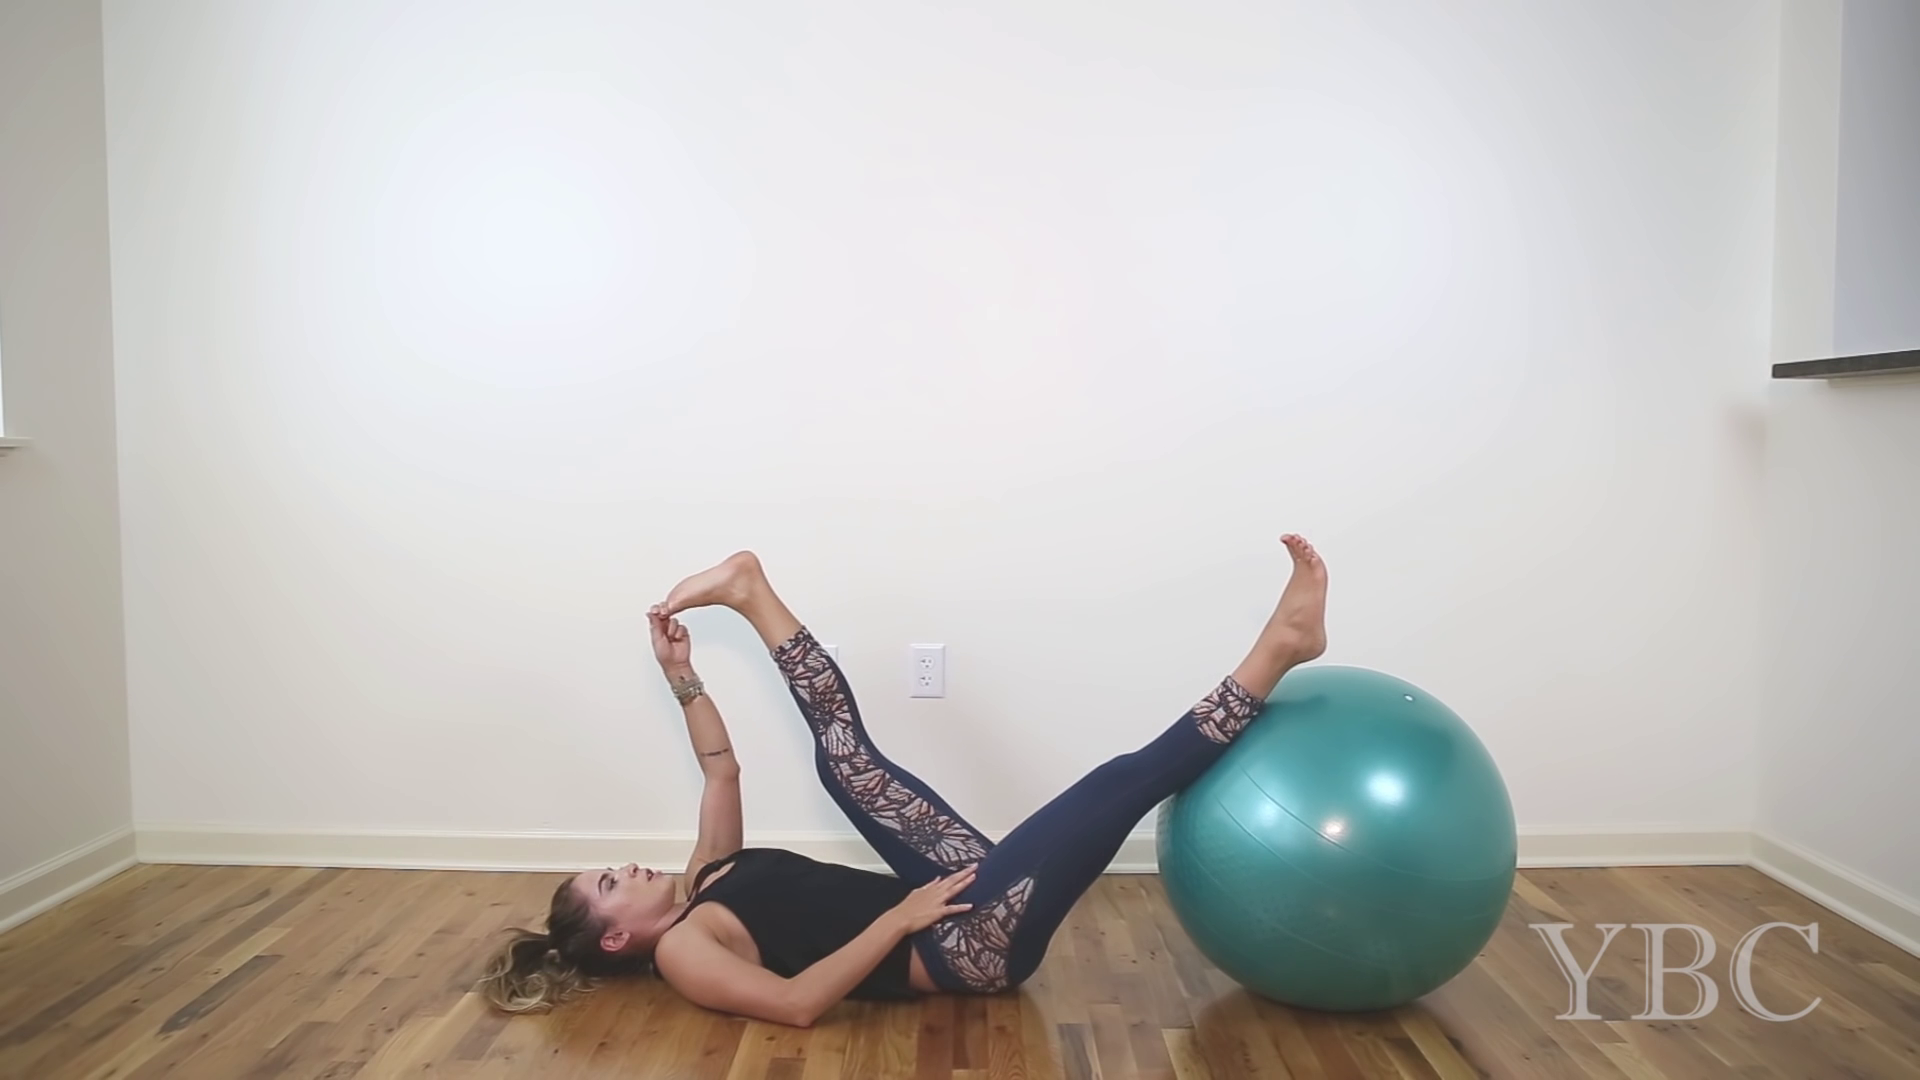yogaball: (1142, 657, 1528, 1022)
